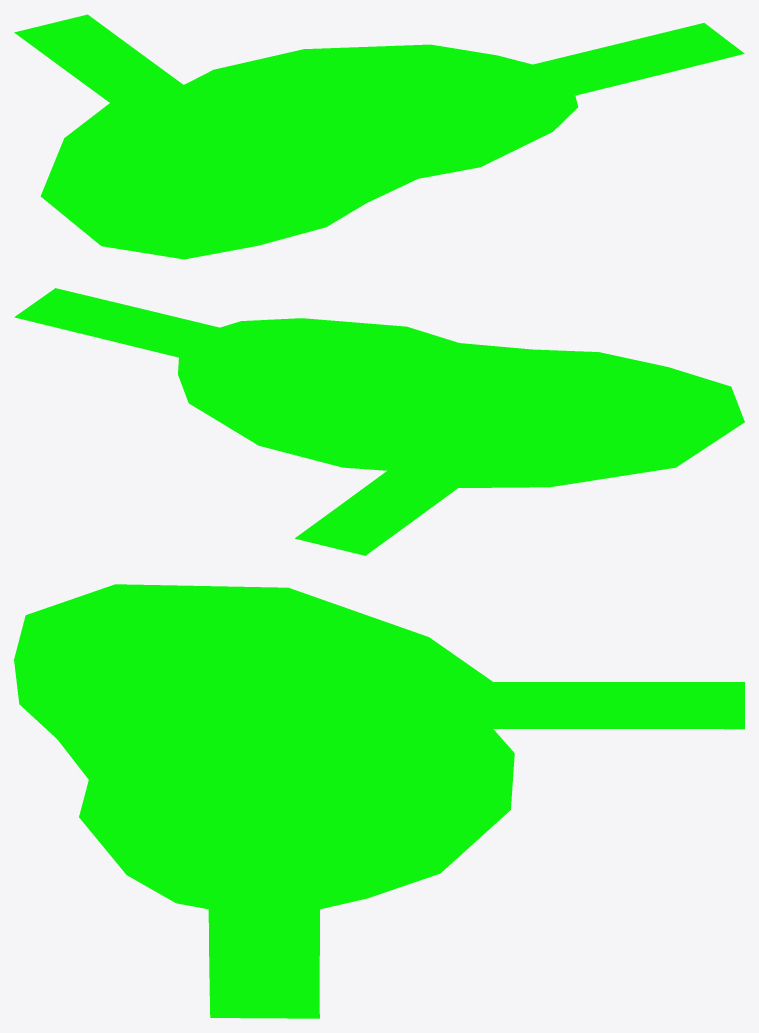
The model's file is s02a_lb3-floor.glb.
3 renders of one model, top to bottom at view 1: azimuth 30°, elevation 25°; view 2: azimuth 150°, elevation 25°; view 3: azimuth 270°, elevation 25°, orthographic. The views are drawn at different scales.
Visible parts, largest first — view 1: collision_floor-colonly; view 2: collision_floor-colonly; view 3: collision_floor-colonly.
Boxes of the visible parts, x1,y1,x2,y2 form: collision_floor-colonly: (14,14,744,259); collision_floor-colonly: (14,288,744,555); collision_floor-colonly: (14,584,744,1018).
Bounding box in the file's own units: 55.41 × 0 × 39.4.
